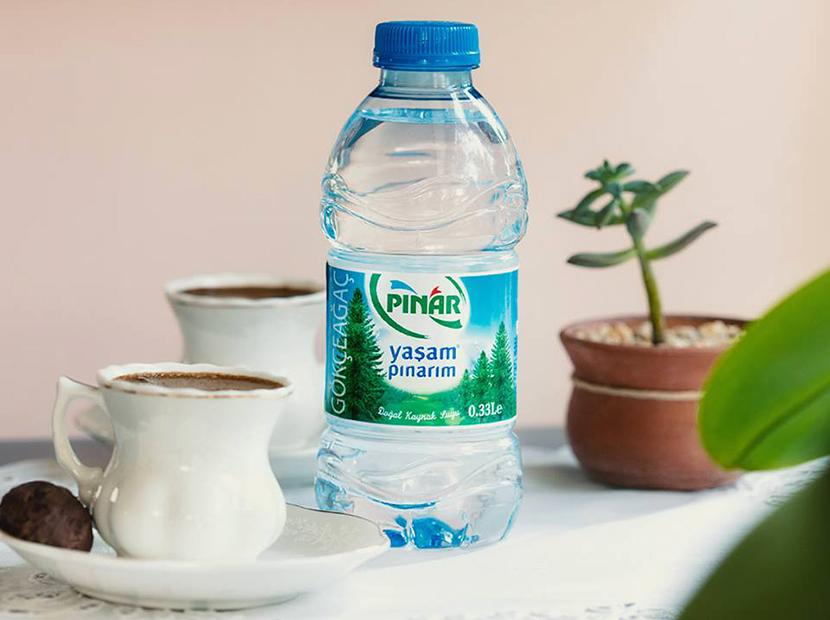bottle: (312, 7, 535, 568)
